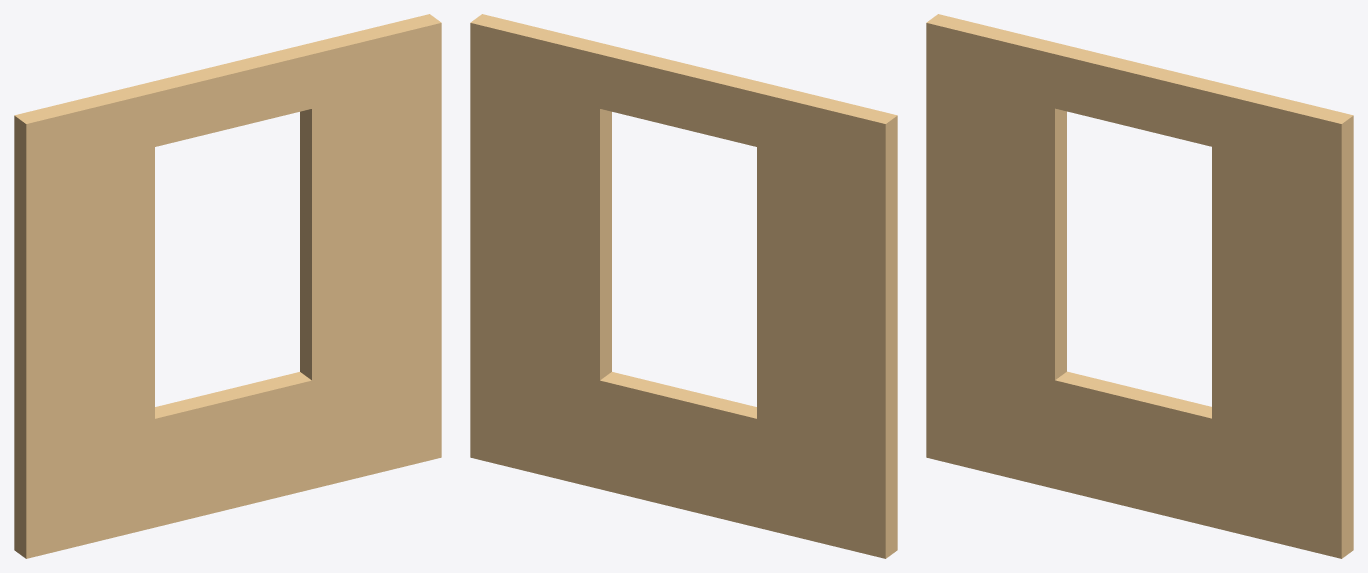
The model's file is Wall_Balcony_01.fbx.
The picture shows the model from 3 angles, left to right: view 1: azimuth 30°, elevation 25°; view 2: azimuth 150°, elevation 25°; view 3: azimuth 330°, elevation 25°; orthographic projection.
Visible parts, largest first — view 1: Wall_Balcony_01; view 2: Wall_Balcony_01; view 3: Wall_Balcony_01.
Part boxes in pixels (x1,y1,x2,y2): Wall_Balcony_01: (14,14,441,558); Wall_Balcony_01: (470,14,897,558); Wall_Balcony_01: (926,14,1353,558).
Bounding box in the file's own units: 4 × 4 × 0.2.
